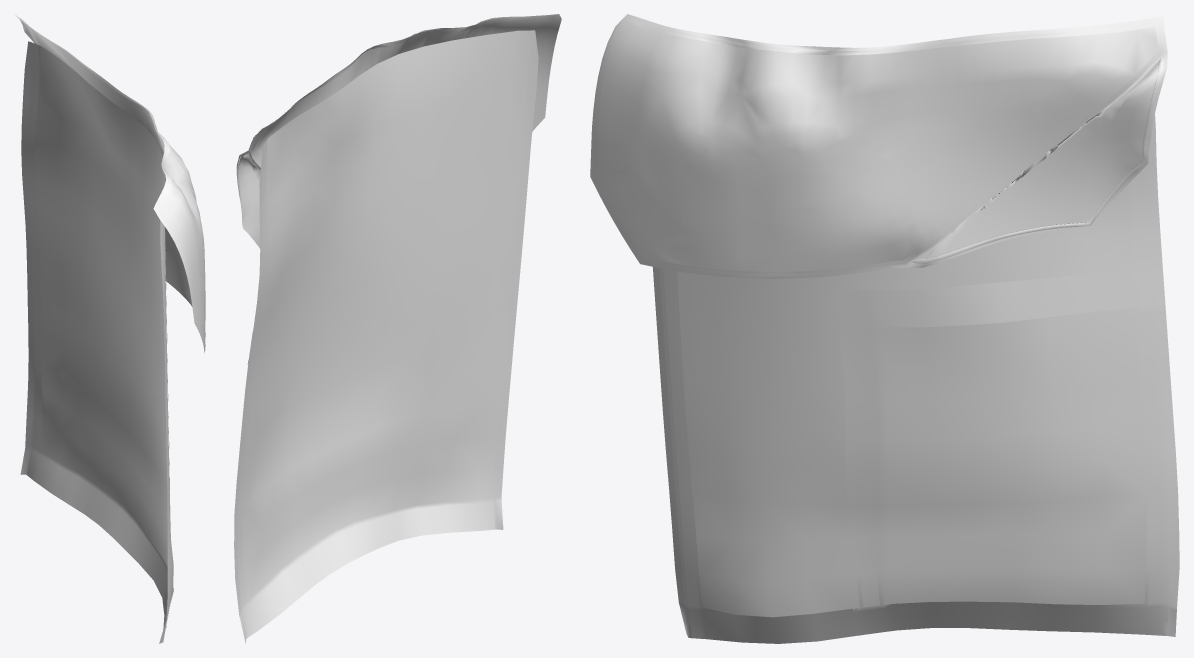
File: Pants_Pocket_RIGHT_V1.glb
The picture shows the model from 3 angles, left to right: view 1: azimuth 30°, elevation 25°; view 2: azimuth 150°, elevation 25°; view 3: azimuth 270°, elevation 25°; orthographic projection. The views are drawn at different scales.
Parts seen in each view (by area): view 1: Jac_Pocket_RIGHT_V1.005, Jac_Rope_Pocket_RIGHT_V2_2.001; view 2: Jac_Pocket_RIGHT_V1.005; view 3: Jac_Pocket_RIGHT_V1.005, Jac_Rope_Pocket_RIGHT_V2_2.001.
Part boxes in pixels (x1,y1,x2,y2): Jac_Pocket_RIGHT_V1.005: [15, 15, 205, 643]; Jac_Rope_Pocket_RIGHT_V2_2.001: [19, 17, 205, 627]; Jac_Pocket_RIGHT_V1.005: [234, 14, 561, 643]; Jac_Pocket_RIGHT_V1.005: [590, 14, 1179, 643]; Jac_Rope_Pocket_RIGHT_V2_2.001: [593, 16, 1168, 633].
Size of the model in its own units: 0.0559 by 0.2636 by 0.2195.
Materials: 2 (2 with a texture image).
